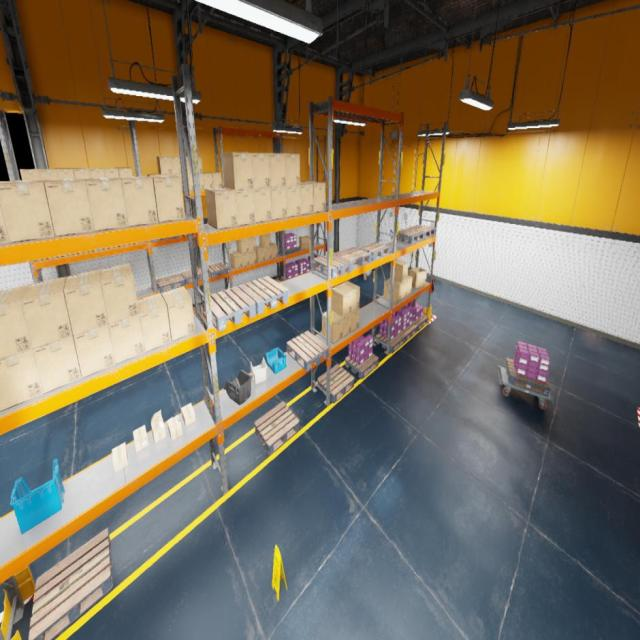box: (20, 276, 73, 348), (0, 180, 55, 242), (44, 178, 94, 236), (32, 336, 82, 394), (64, 270, 108, 335), (0, 349, 44, 412), (0, 286, 32, 360), (100, 264, 139, 324), (86, 178, 128, 232), (74, 325, 115, 377), (118, 176, 158, 227), (137, 293, 171, 352), (161, 287, 195, 341), (108, 315, 145, 364), (148, 175, 185, 222), (205, 188, 237, 230), (222, 152, 253, 190), (300, 181, 325, 213), (236, 189, 255, 226), (322, 309, 342, 343), (331, 284, 352, 316), (252, 152, 270, 188), (0, 181, 10, 245), (254, 187, 272, 222), (340, 281, 360, 311), (271, 186, 287, 220), (270, 153, 286, 187), (332, 310, 352, 337), (151, 409, 166, 443), (383, 278, 402, 304), (112, 442, 128, 472), (286, 154, 300, 186), (300, 182, 313, 215), (390, 260, 409, 282), (287, 185, 300, 217), (133, 425, 148, 452), (390, 278, 407, 300), (168, 415, 182, 441), (181, 403, 196, 426), (409, 268, 426, 288), (157, 157, 172, 174), (39, 168, 58, 180), (20, 169, 40, 180), (236, 238, 249, 254), (170, 156, 181, 174), (210, 172, 222, 188), (56, 168, 75, 178), (231, 251, 242, 268), (259, 245, 271, 260), (203, 172, 213, 190), (255, 245, 265, 262), (172, 174, 182, 191), (352, 308, 359, 332), (89, 168, 105, 178), (74, 168, 90, 178), (260, 233, 270, 248), (104, 168, 119, 178), (299, 236, 310, 249), (118, 168, 133, 177), (248, 236, 255, 251), (242, 252, 249, 267), (271, 242, 277, 258), (407, 276, 412, 295), (249, 251, 256, 264), (188, 174, 193, 190), (198, 157, 203, 173), (186, 157, 191, 173), (200, 174, 204, 190), (88, 248, 102, 252), (39, 257, 56, 260), (72, 251, 87, 254), (57, 254, 72, 257)
pallets: (29, 528, 112, 640), (202, 286, 256, 332), (255, 402, 299, 456), (238, 276, 289, 314), (505, 358, 550, 396), (287, 331, 328, 371), (317, 364, 354, 403), (314, 254, 352, 278), (345, 354, 379, 379), (333, 247, 371, 269), (376, 333, 405, 353), (359, 242, 389, 260), (156, 274, 184, 292), (397, 228, 424, 244), (398, 323, 418, 342), (180, 268, 202, 284), (408, 225, 435, 238), (411, 314, 428, 332), (208, 263, 228, 278), (279, 246, 299, 254), (151, 236, 175, 242), (193, 304, 203, 313), (280, 276, 298, 281), (175, 234, 187, 238), (298, 271, 309, 275), (310, 267, 320, 270), (274, 278, 281, 282), (214, 301, 217, 304)
